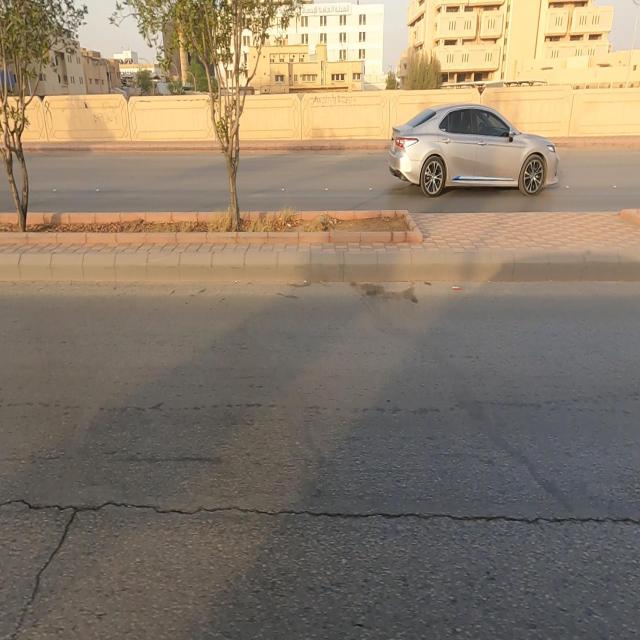Graffiti: (309, 93, 356, 107), (93, 102, 120, 124)
